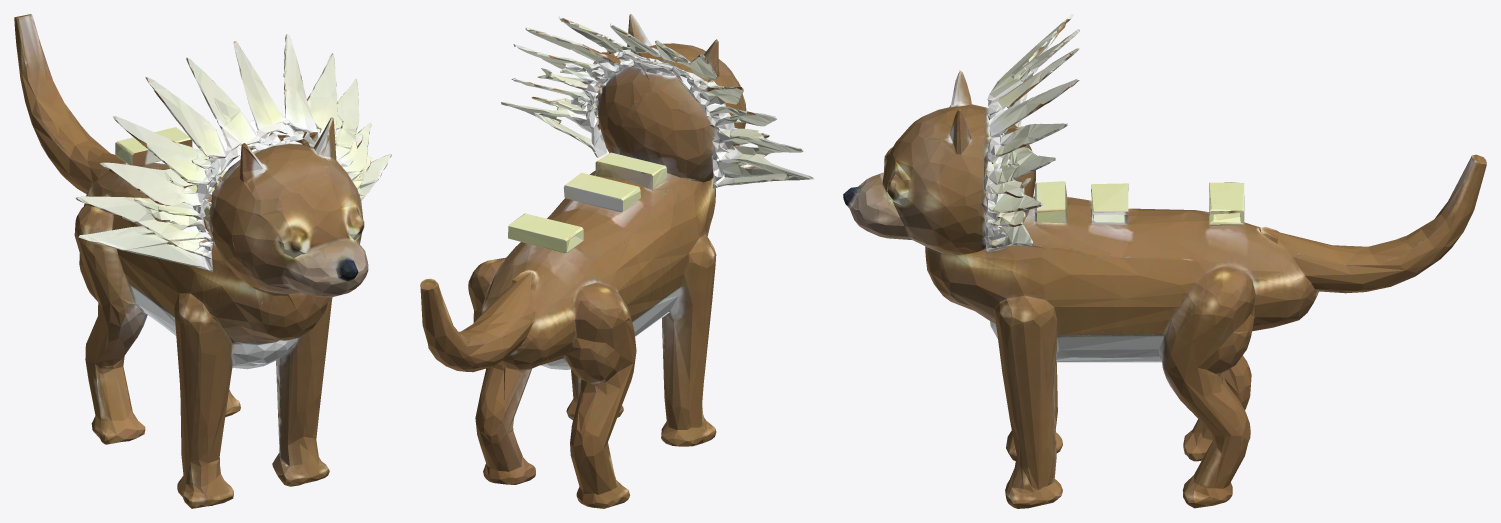
Rendered from creature-105.lod.glb.
3 views of the same model, side by side, from view 1: azimuth 30°, elevation 25°; view 2: azimuth 150°, elevation 25°; view 3: azimuth 270°, elevation 25° (orthographic). The views are drawn at different scales.
Parts seen in each view (by area): view 1: tmpqawhgpm3.ply; view 2: tmpqawhgpm3.ply; view 3: tmpqawhgpm3.ply.
Part boxes in pixels (x1,y1,x2,y2): tmpqawhgpm3.ply: [14, 14, 391, 508]; tmpqawhgpm3.ply: [420, 14, 813, 508]; tmpqawhgpm3.ply: [843, 14, 1486, 508].
Bounding box in the file's own units: 1.14 × 1.48 × 1.99.
Materials: 1 (1 with a texture image).
